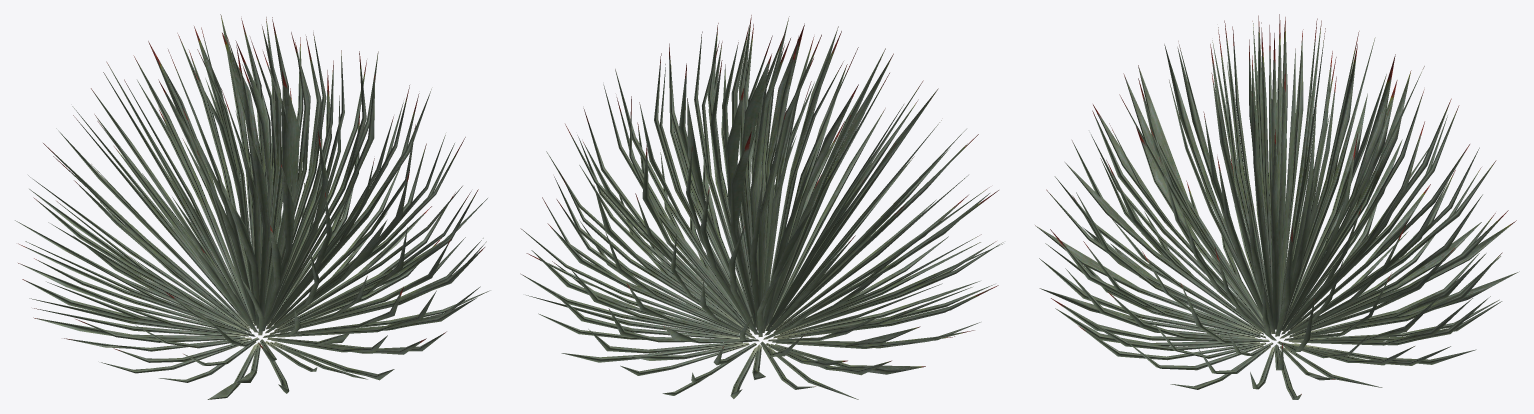
Rendered from Hedgehog_Agave_Model_0.obj.
3 views of the same model, side by side, from view 1: azimuth 30°, elevation 25°; view 2: azimuth 150°, elevation 25°; view 3: azimuth 270°, elevation 25° (orthographic).
Parts seen in each view (by area): view 1: Foliage; view 2: Foliage; view 3: Foliage.
Boxes of the visible parts, x1,y1,x2,y2 form: Foliage: (15, 14, 490, 399); Foliage: (520, 15, 1003, 399); Foliage: (1035, 14, 1519, 399).
Bounding box in the file's own units: 2.14 × 1.5 × 2.17.
1 material, 1 textured.
